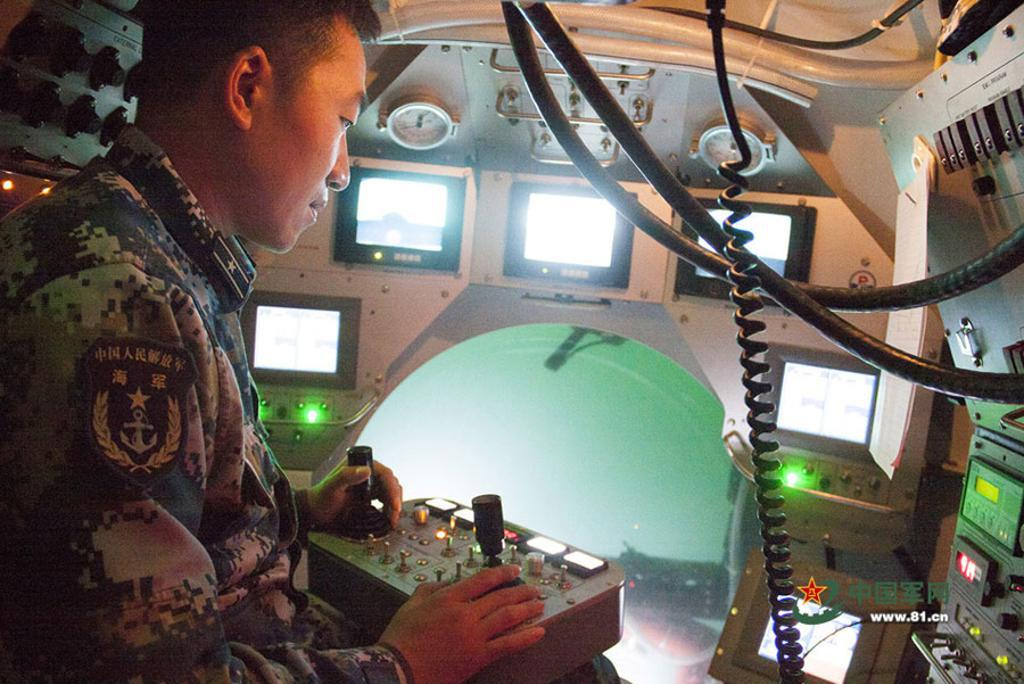face: (255, 29, 367, 257)
